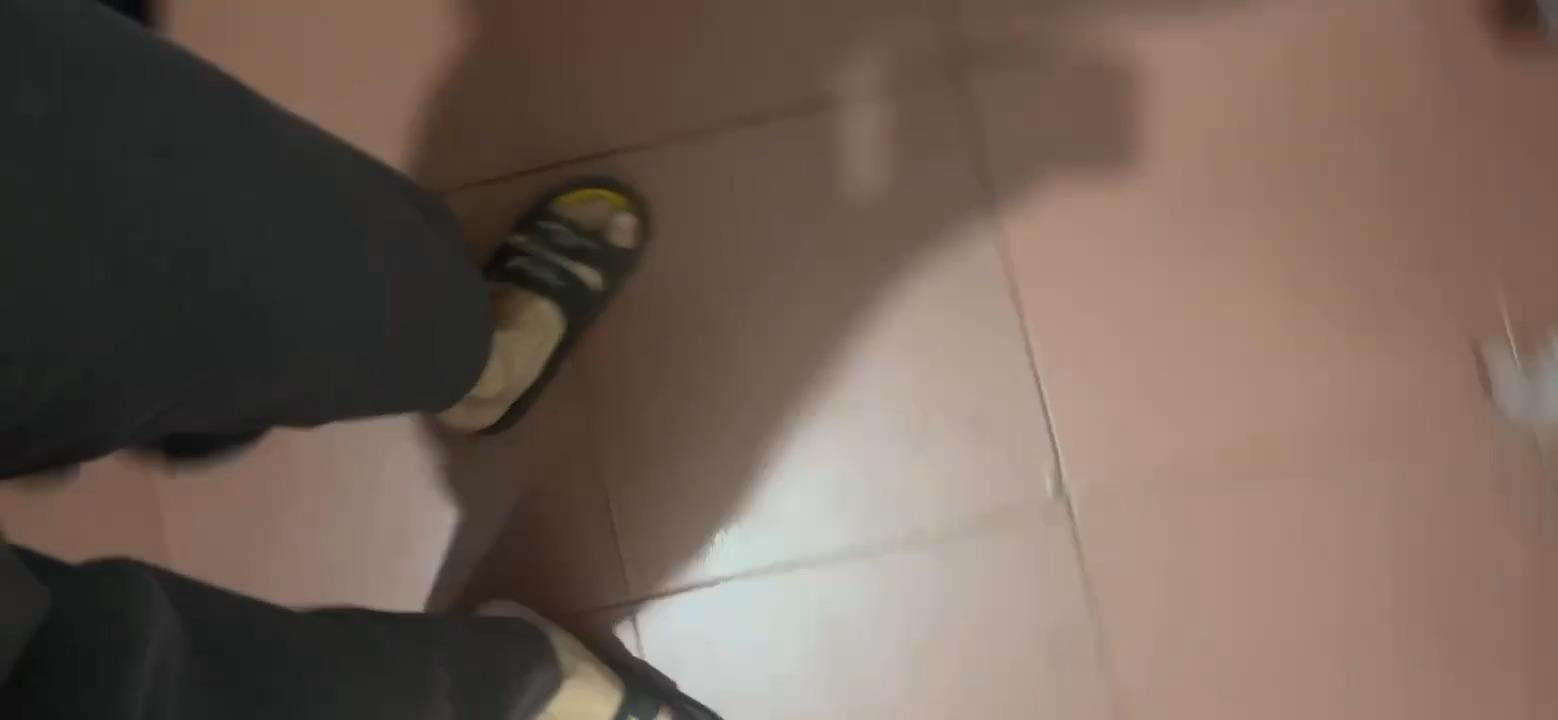no-boot: (431, 167, 651, 425), (457, 579, 697, 720)
